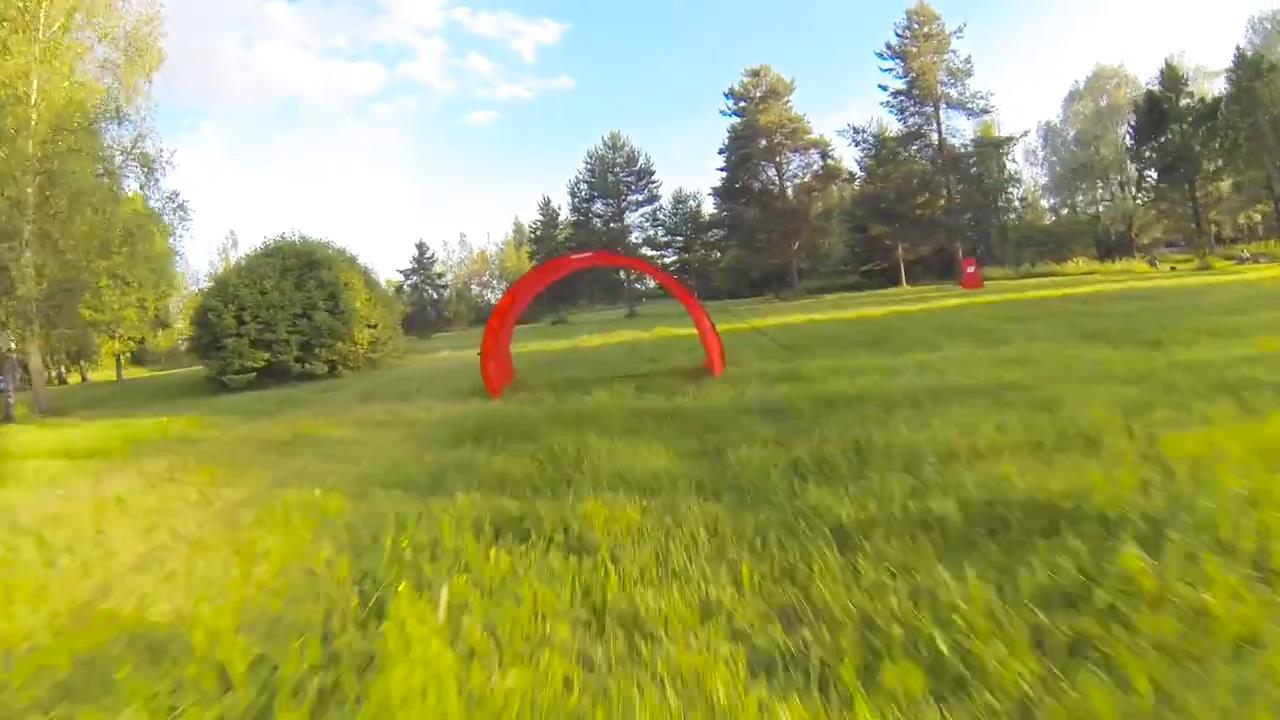gate: (479, 248, 723, 399)
